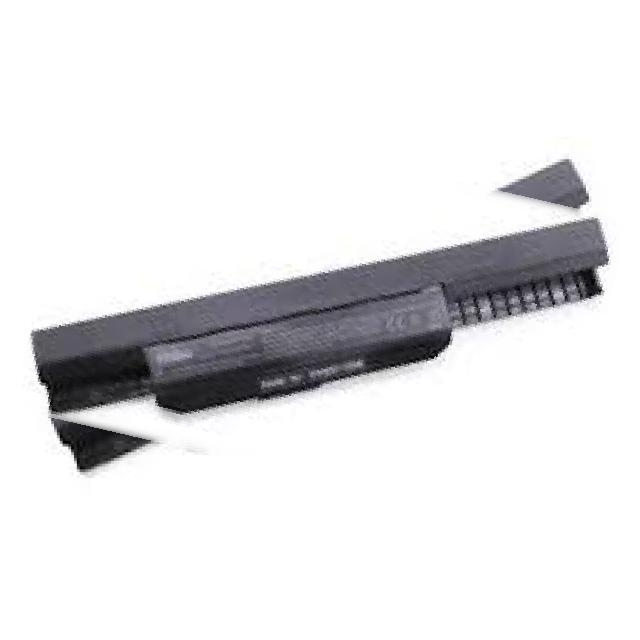Battery: (25, 206, 640, 452)
